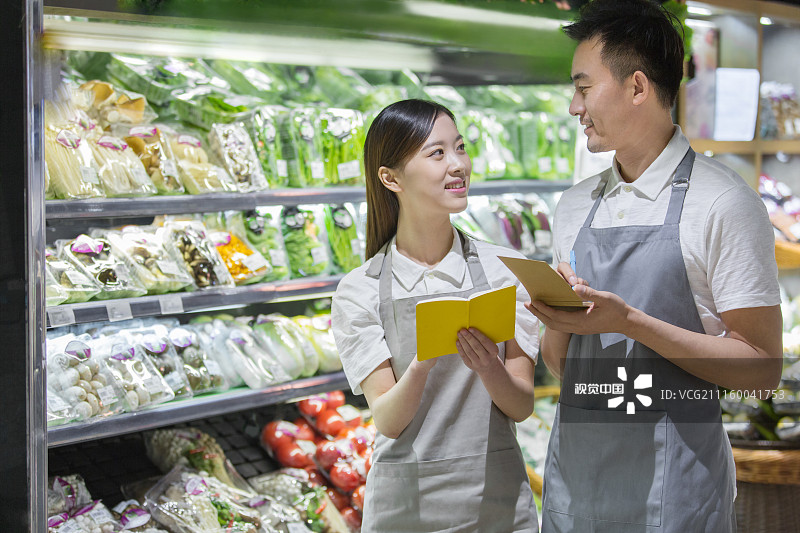no-phone: (517, 281, 642, 344), (438, 319, 505, 385)
